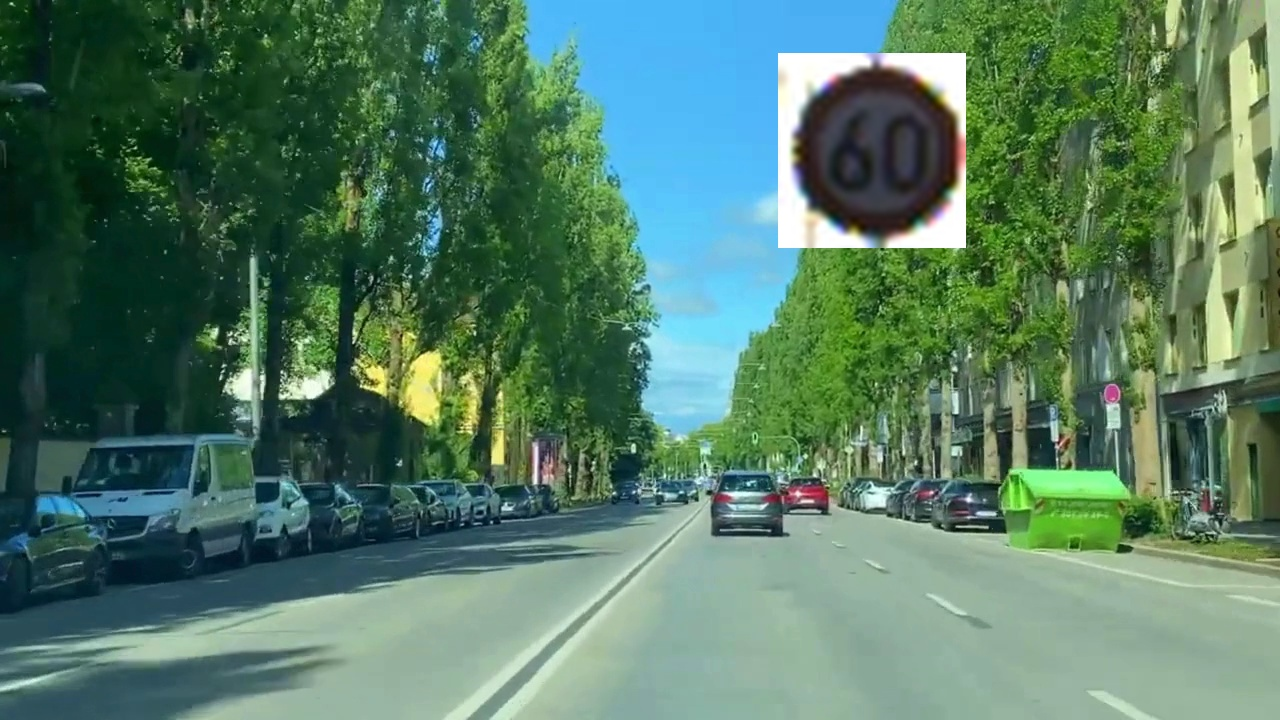Speed 60: (778, 53, 966, 248)
